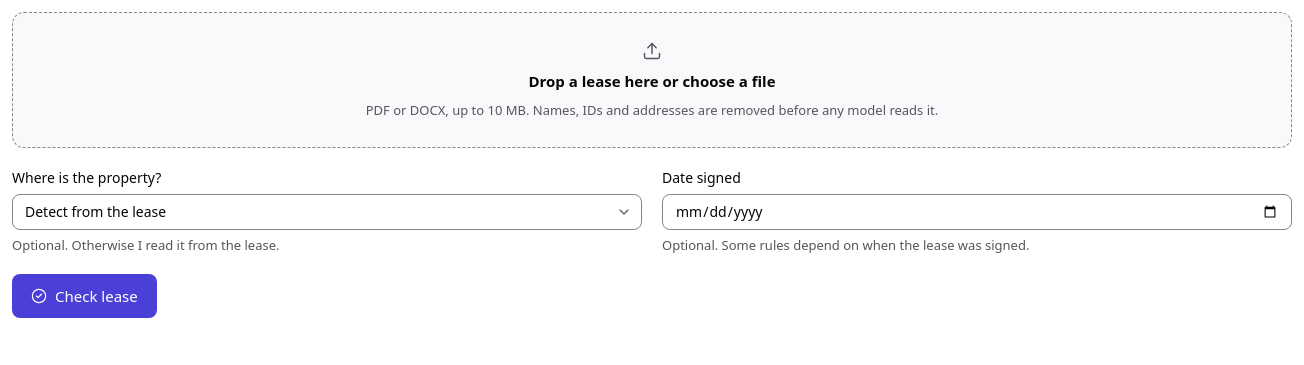
it: UploadForm › asks for a lease when none is chosen
Click the button "Check lease".
click(84, 296)  # box [12, 274, 157, 318]
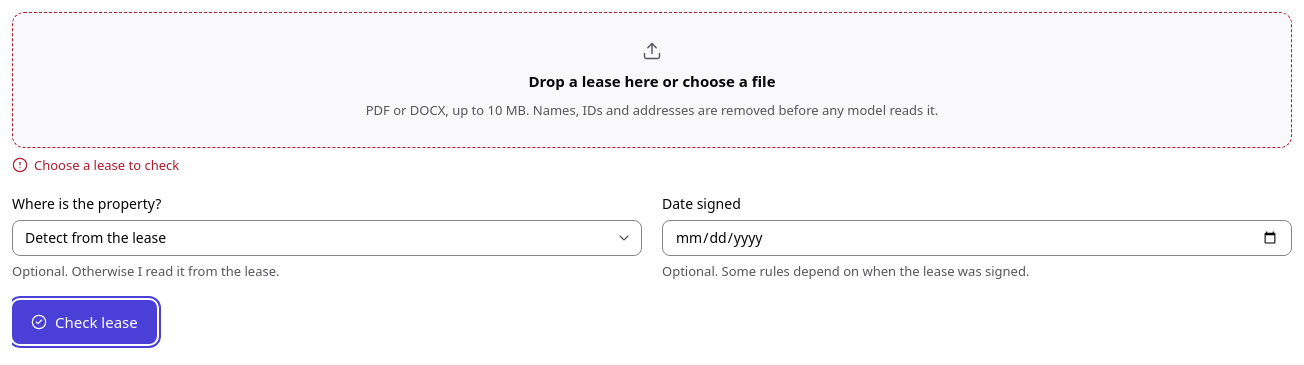
Expected: the text "Choose a lease to check" is shown, [12, 156, 179, 174]
